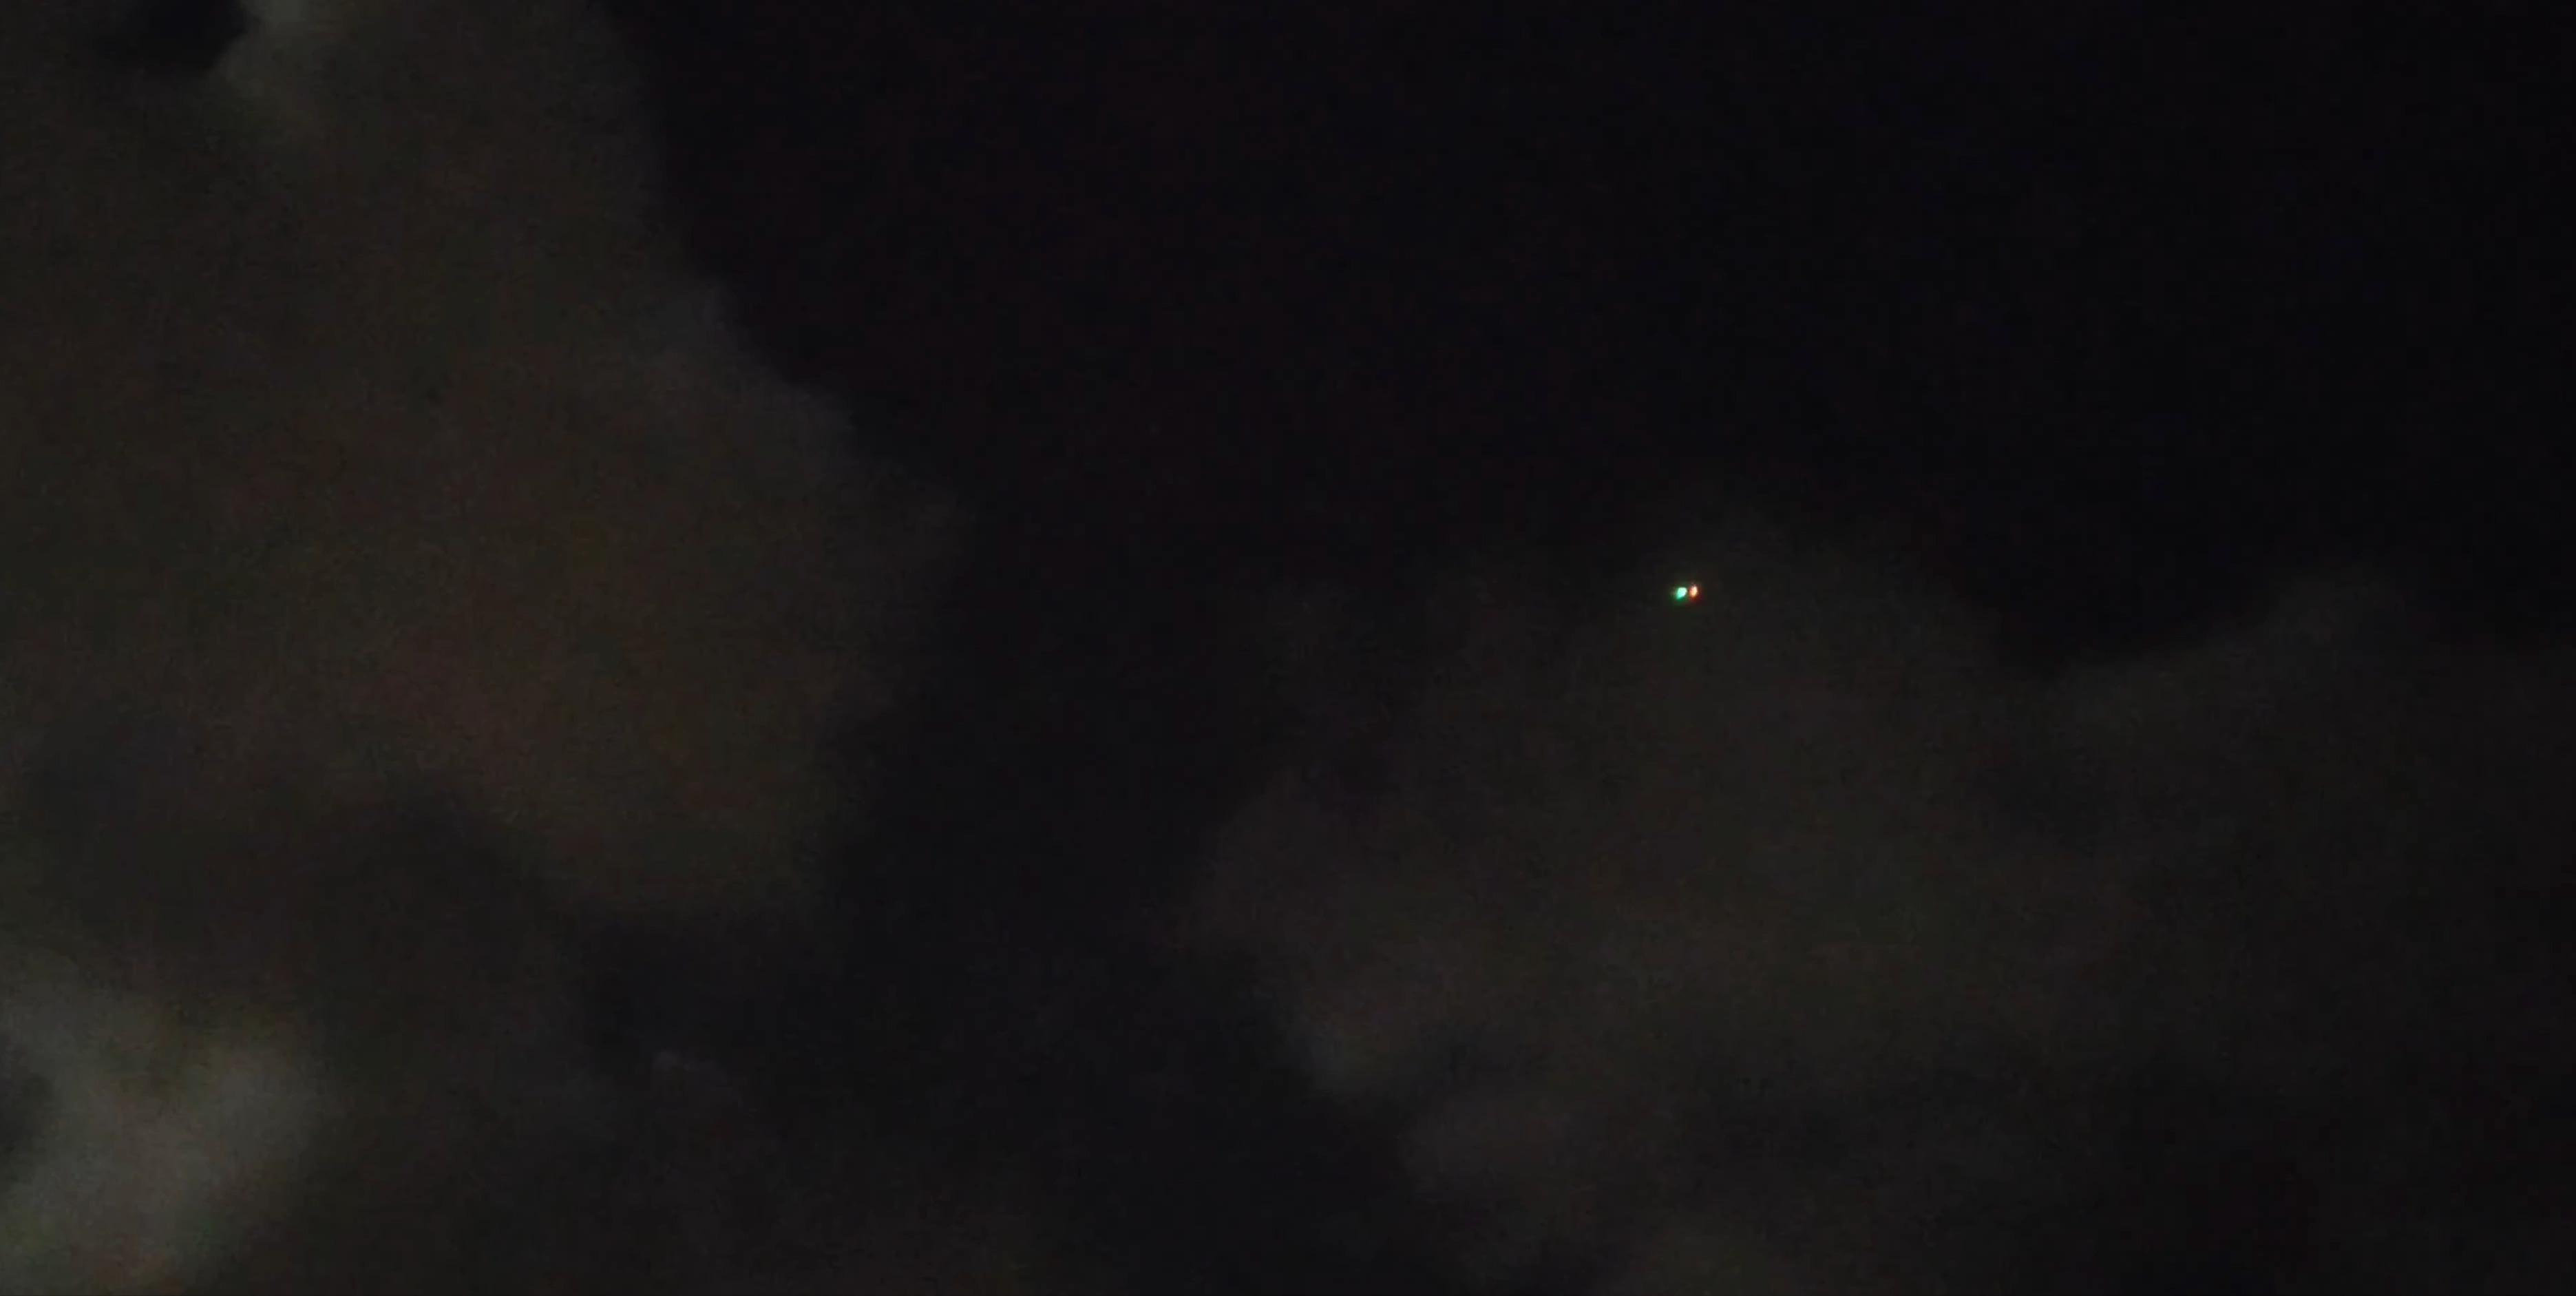Plane: (1662, 575, 1709, 622)
